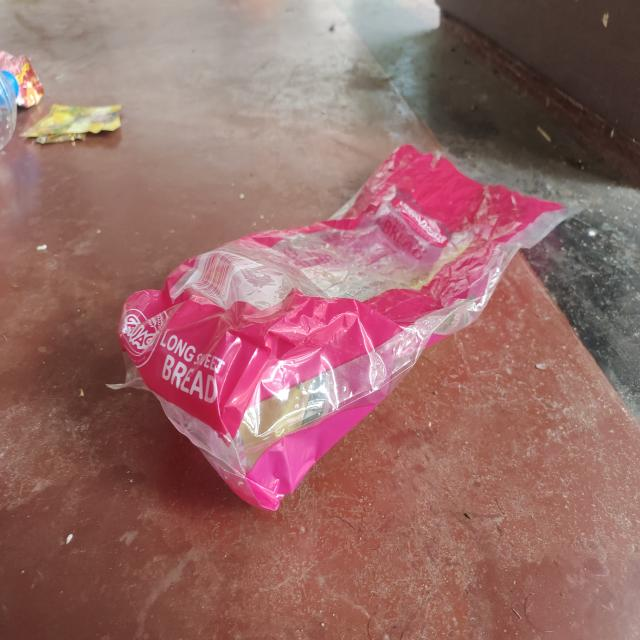plastic: (115, 146, 582, 510)
